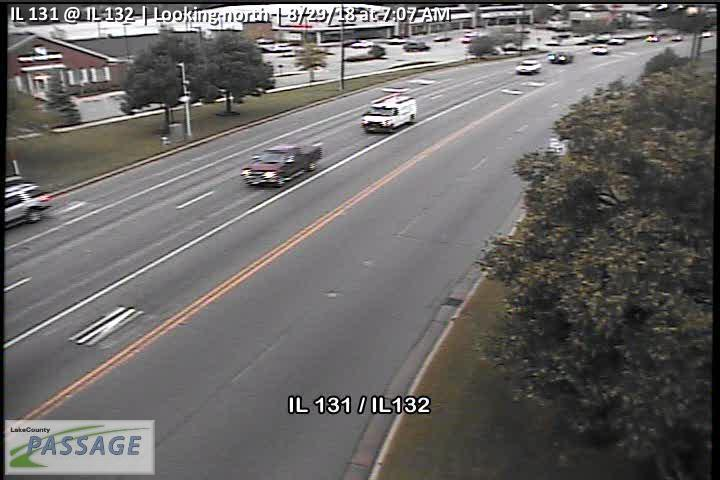SUV: (358, 94, 417, 134)
Sedan: (516, 56, 542, 75)
Truck: (239, 141, 323, 190)
